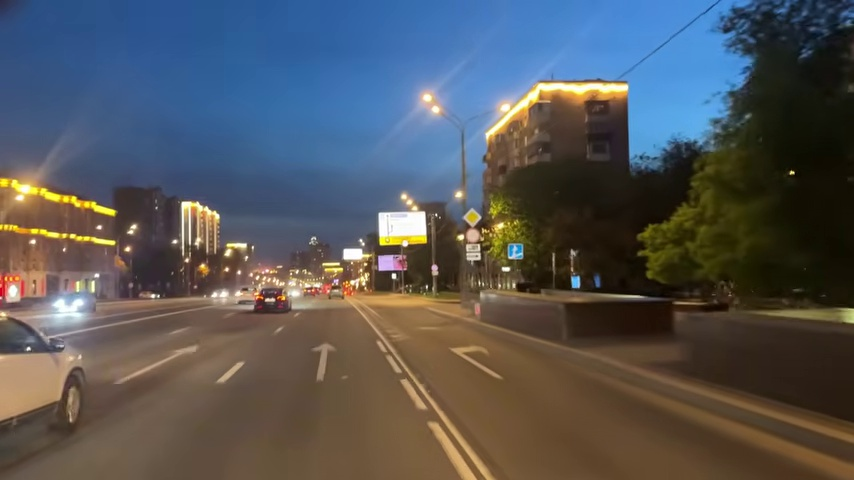acesa: (419, 91, 441, 114), (400, 192, 418, 212), (451, 187, 466, 202)
